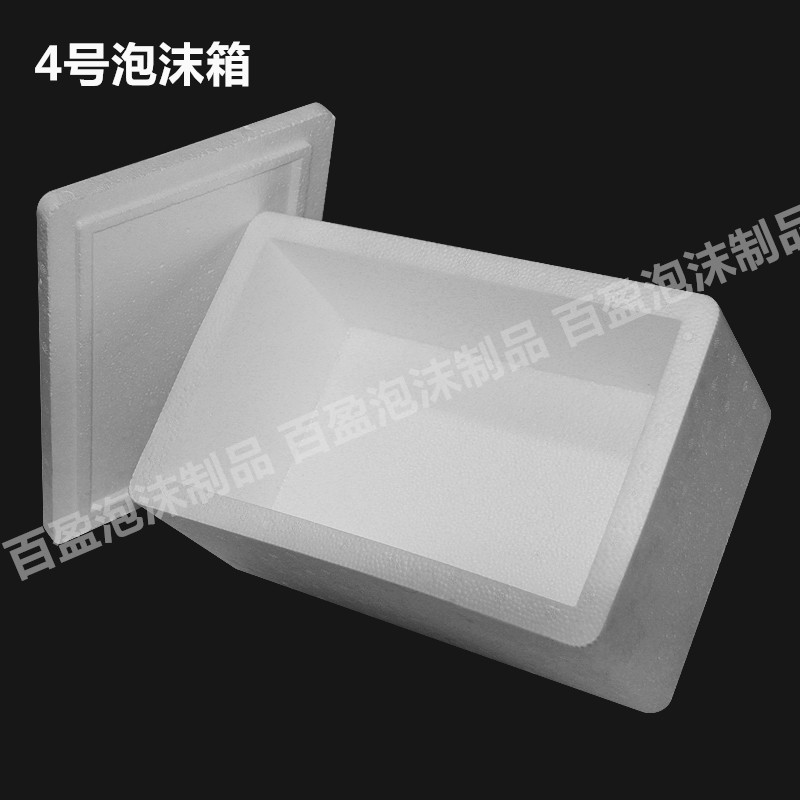泡沫箱: (38, 105, 768, 711)
